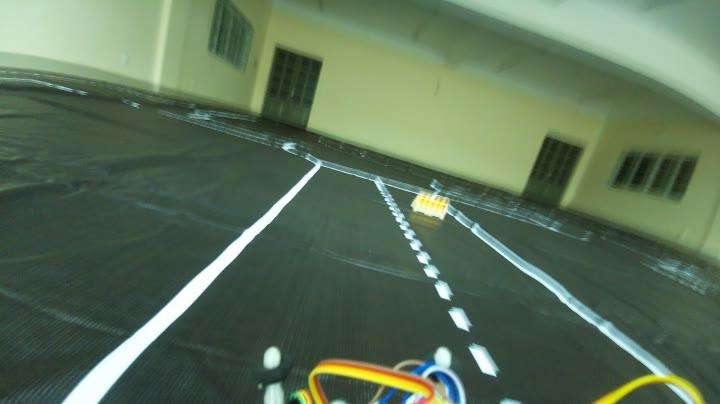roadblock: (403, 184, 456, 224)
